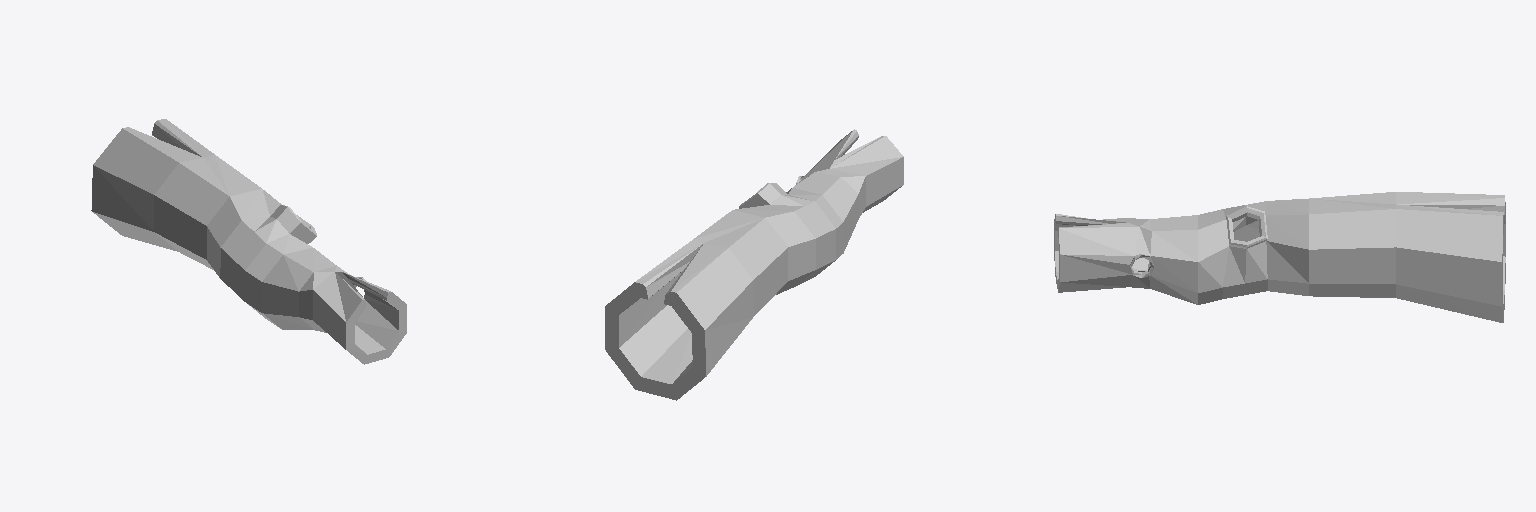
Rendered from Log3.obj.
3 renders of one model, left to right at view 1: azimuth 30°, elevation 25°; view 2: azimuth 150°, elevation 25°; view 3: azimuth 270°, elevation 25°, orthographic.
Visible parts, largest first — view 1: Log.001_Circle.001; view 2: Log.001_Circle.001; view 3: Log.001_Circle.001.
Part boxes in pixels (bbox=[...]): Log.001_Circle.001: bbox=[91, 119, 406, 364]; Log.001_Circle.001: bbox=[605, 129, 903, 400]; Log.001_Circle.001: bbox=[1054, 192, 1505, 322].
Size of the model in its own units: 1.89 by 2.01 by 7.21.